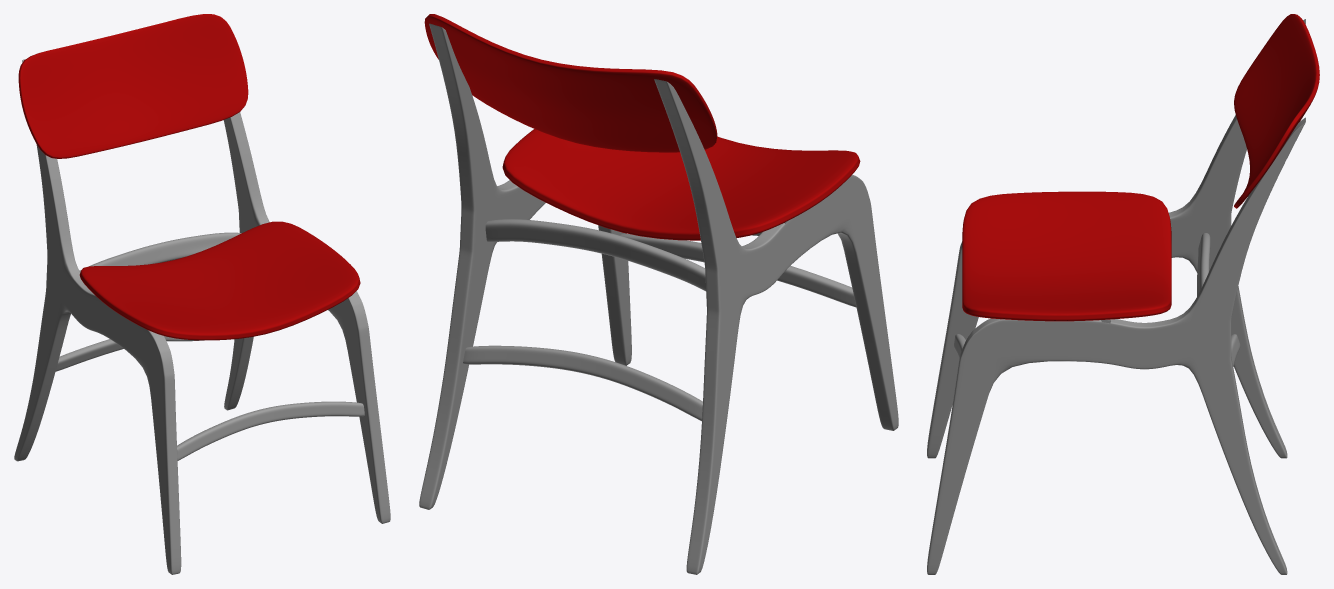
The model's file is Chair_Furniture.fbx.
The picture shows the model from 3 angles, left to right: view 1: azimuth 30°, elevation 25°; view 2: azimuth 150°, elevation 25°; view 3: azimuth 270°, elevation 25°; orthographic projection. The views are drawn at different scales.
Parts seen in each view (by area): view 1: pPlane3, pasted__pPlane3, pPlane2, pPlane1, pCube1, pasted__pCube3, pCube2, pCube3; view 2: pPlane2, pasted__pPlane3, pPlane3, pPlane1, pasted__pCube3, pCube3, pCube1, pCube2; view 3: pPlane1, pasted__pPlane3, pPlane2, pPlane3, pasted__pCube3.
Part boxes in pixels (left/top/right/bottom): pPlane3: left=18, top=14, right=248, bottom=158; pasted__pPlane3: left=79, top=221, right=360, bottom=340; pPlane2: left=14, top=59, right=181, bottom=574; pPlane1: left=223, top=112, right=390, bottom=523; pCube1: left=177, top=401, right=364, bottom=460; pasted__pCube3: left=80, top=232, right=241, bottom=271; pCube2: left=177, top=401, right=364, bottom=457; pCube3: left=55, top=339, right=123, bottom=371; pPlane2: left=654, top=79, right=898, bottom=574; pasted__pPlane3: left=502, top=129, right=860, bottom=240; pPlane3: left=424, top=14, right=717, bottom=152; pPlane1: left=419, top=23, right=631, bottom=509; pasted__pCube3: left=485, top=219, right=706, bottom=291; pCube3: left=463, top=345, right=702, bottom=421; pCube1: left=621, top=234, right=856, bottom=307; pCube2: left=620, top=234, right=855, bottom=305; pPlane1: left=927, top=117, right=1305, bottom=574; pasted__pPlane3: left=962, top=191, right=1171, bottom=321; pPlane2: left=927, top=19, right=1305, bottom=458; pPlane3: left=1234, top=14, right=1319, bottom=208; pasted__pCube3: left=1197, top=233, right=1210, bottom=296.
Size of the model in its own units: 9.38 by 15.8 by 12.51.
